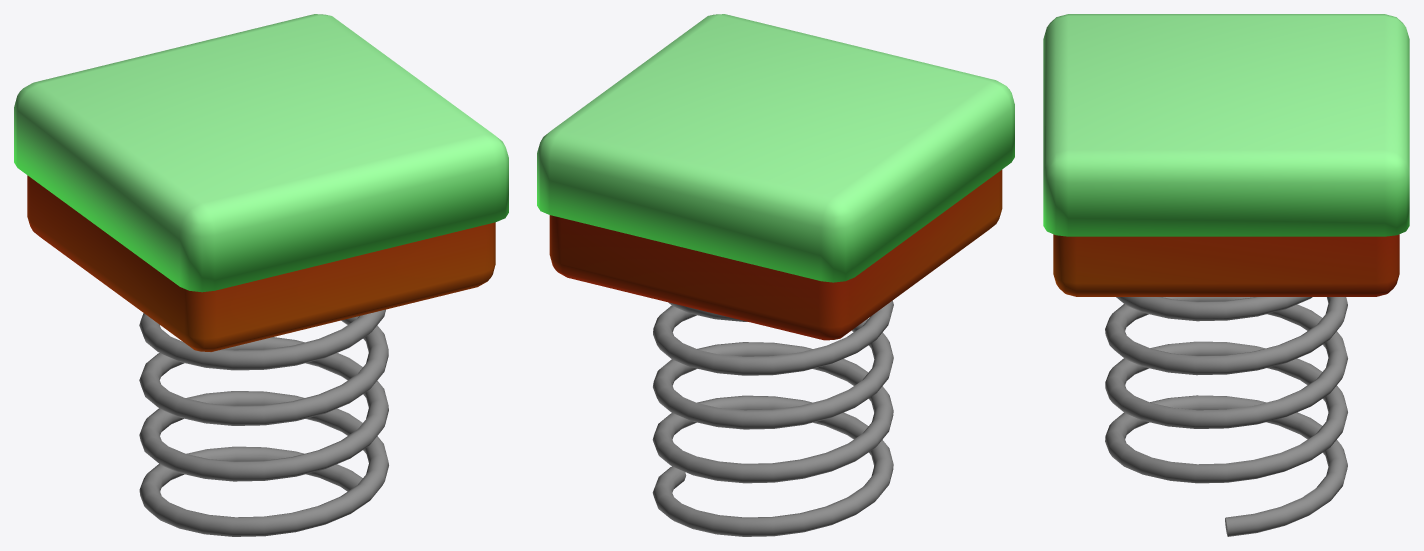
Rendered from trap_platformspringgreen.glb.
3 views of the same model, side by side, from view 1: azimuth 30°, elevation 25°; view 2: azimuth 150°, elevation 25°; view 3: azimuth 270°, elevation 25° (orthographic). The views are drawn at different scales.
Visible parts, largest first — view 1: Spiral.001_visual; view 2: Spiral.001_visual; view 3: Spiral.001_visual.
Part boxes in pixels (x1,y1,x2,y2): Spiral.001_visual: (14, 14, 508, 536); Spiral.001_visual: (537, 14, 1014, 536); Spiral.001_visual: (1043, 14, 1409, 536).
Size of what is drawn, in the model's own units: 1.42 by 1.72 by 1.42.
Materials: 1 (1 with a texture image).
